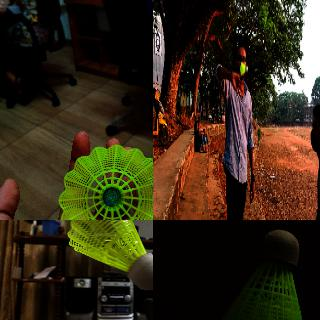shuttlecock: (210, 229, 310, 319), (57, 143, 152, 219), (66, 220, 152, 291), (240, 62, 248, 74)
